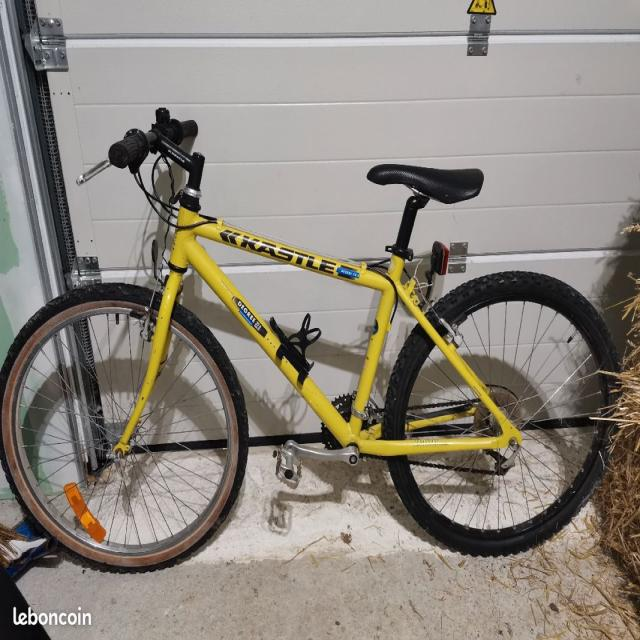Bike: (0, 108, 619, 567)
